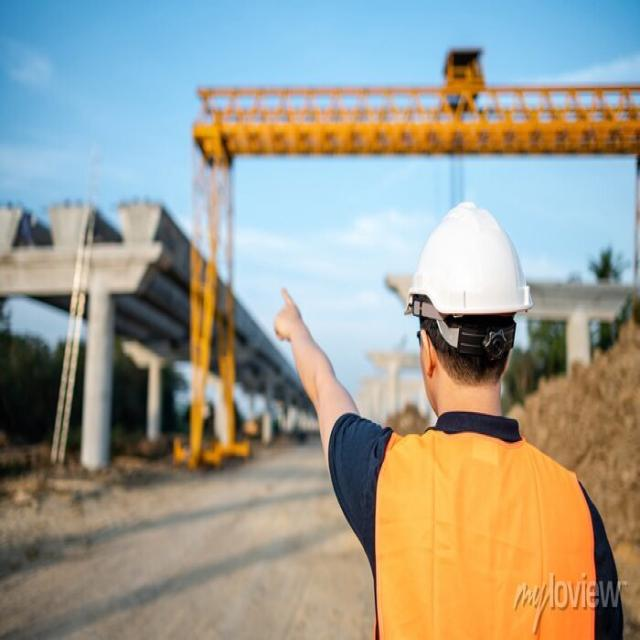helmet: (397, 194, 535, 341)
vest: (362, 411, 605, 640)
